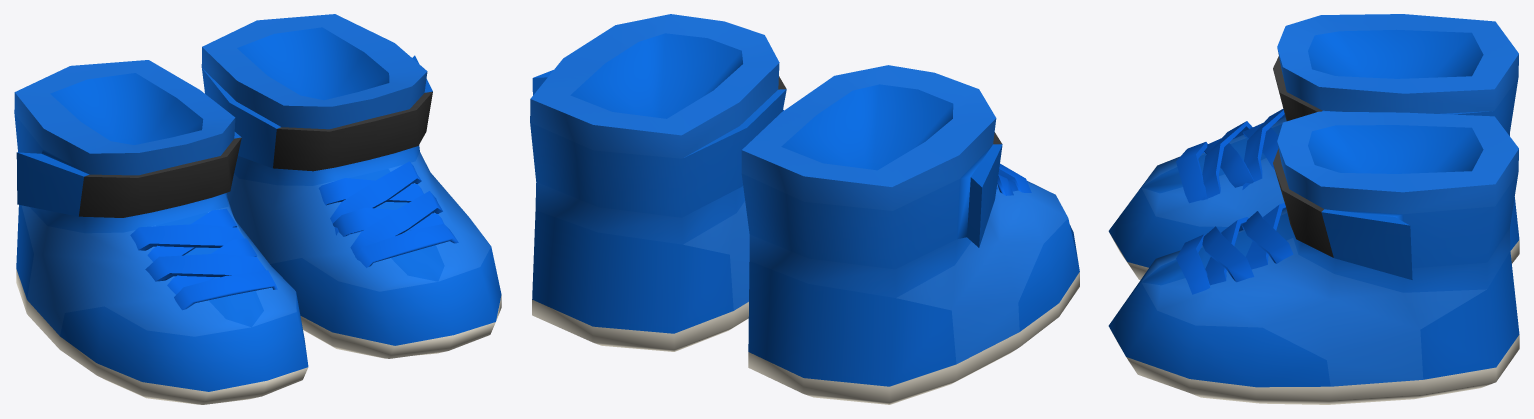
The model's file is Shoes_42.fbx.
3 views of the same model, side by side, from view 1: azimuth 30°, elevation 25°; view 2: azimuth 150°, elevation 25°; view 3: azimuth 270°, elevation 25° (orthographic). The views are drawn at different scales.
Parts seen in each view (by area): view 1: Shoes_42; view 2: Shoes_42; view 3: Shoes_42.
Boxes of the visible parts, x1,y1,x2,y2 form: Shoes_42: [14, 14, 501, 404]; Shoes_42: [530, 14, 1079, 404]; Shoes_42: [1108, 14, 1519, 404].
Bounding box in the file's own units: 43.28 × 21.66 × 37.16.
